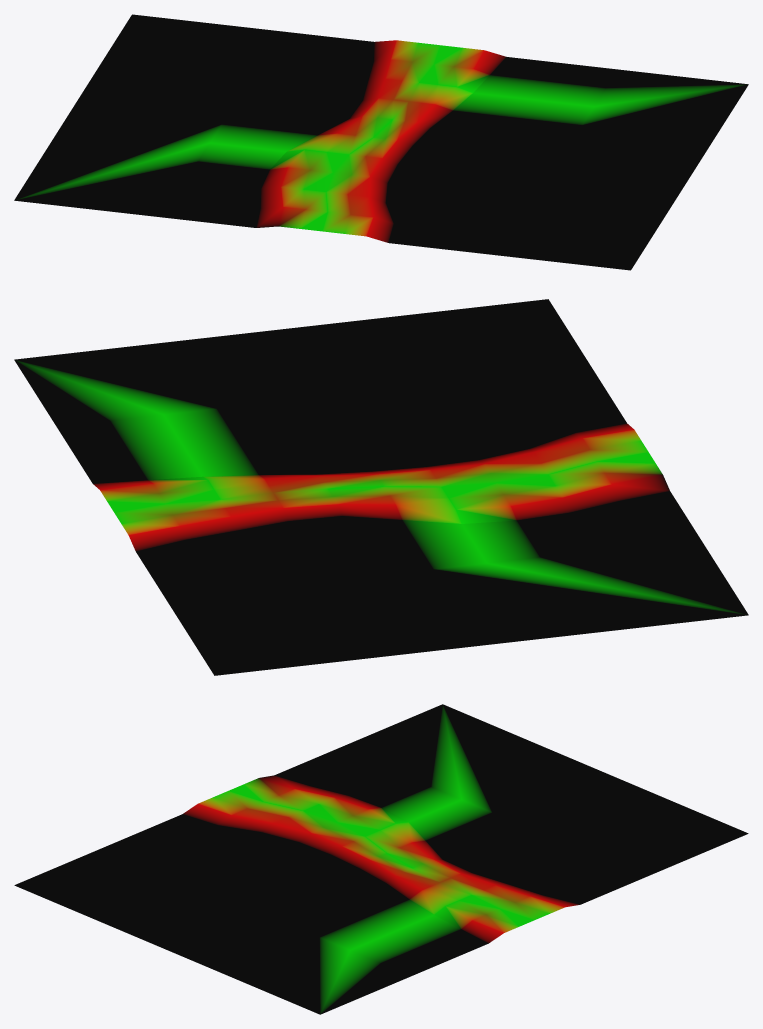
Rendered from Section_WayLine01_Steppe_RuinVillage_Terrain.fbx.
The picture shows the model from 3 angles, top to bottom: view 1: azimuth 30°, elevation 25°; view 2: azimuth 150°, elevation 25°; view 3: azimuth 270°, elevation 25°; orthographic projection. The views are drawn at different scales.
Parts seen in each view (by area): view 1: Section_WayLine01_Steppe_RuinVillage_Terrain; view 2: Section_WayLine01_Steppe_RuinVillage_Terrain; view 3: Section_WayLine01_Steppe_RuinVillage_Terrain.
Boxes of the visible parts, x1,y1,x2,y2 form: Section_WayLine01_Steppe_RuinVillage_Terrain: [14, 14, 748, 270]; Section_WayLine01_Steppe_RuinVillage_Terrain: [14, 299, 748, 675]; Section_WayLine01_Steppe_RuinVillage_Terrain: [14, 704, 748, 1014].
Bounding box in the file's own units: 8485 × 50 × 8485.
